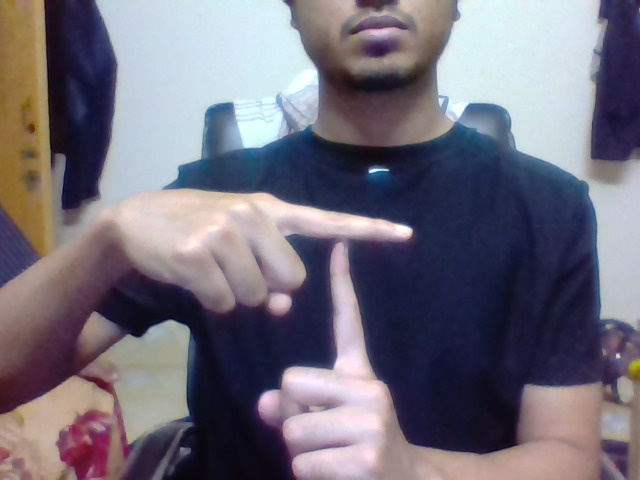T: (310, 189, 424, 359)
